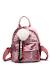bag: (3, 13, 50, 65)
